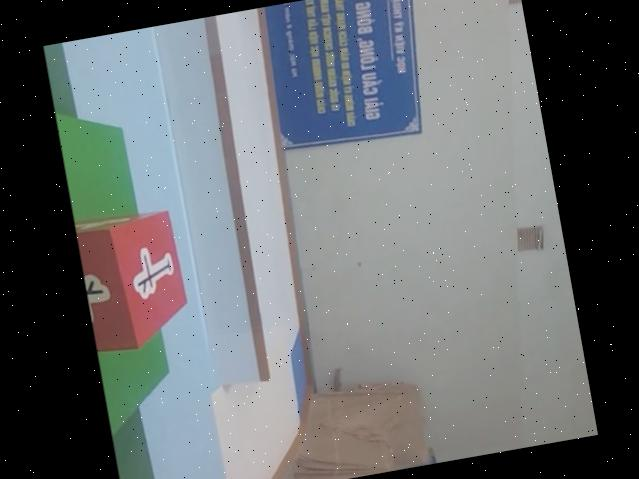R2 Real: (73, 204, 194, 356)
